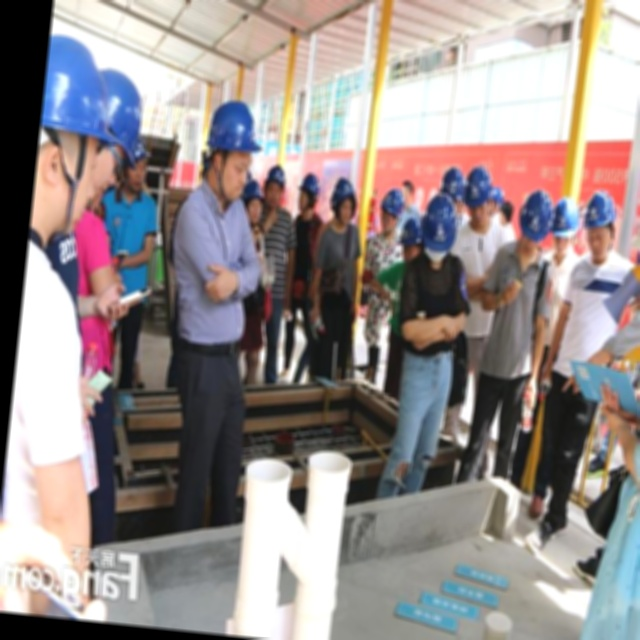Con_Casco: (197, 100, 261, 197), (417, 192, 459, 268)
